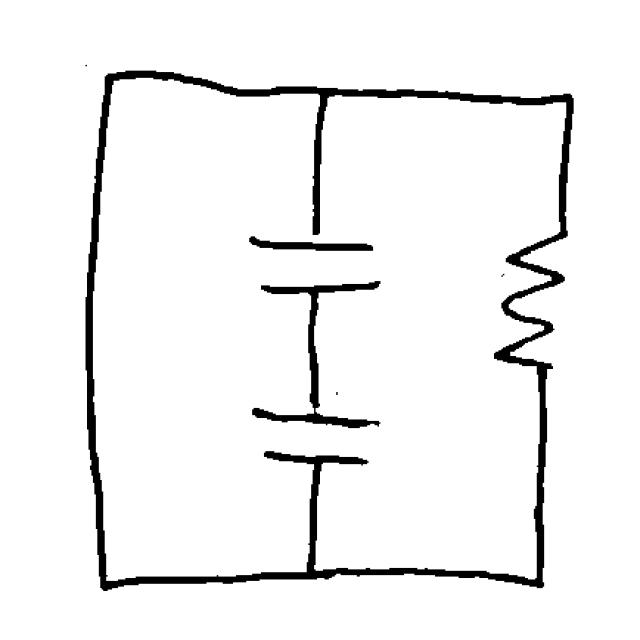capacitor: (239, 392, 394, 480), (237, 218, 389, 306)
resistor: (484, 218, 584, 390)
